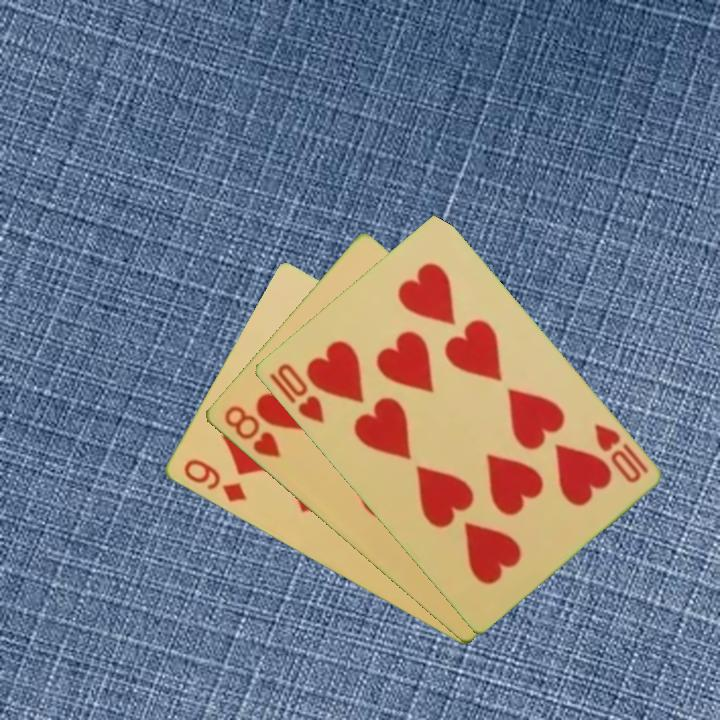10h: (265, 360, 327, 427), (590, 420, 651, 486)
8h: (220, 401, 283, 461)
9d: (179, 455, 249, 506)
